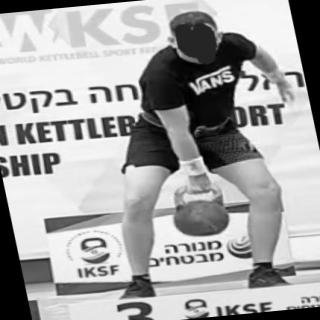kettlebell: (169, 181, 236, 241)
